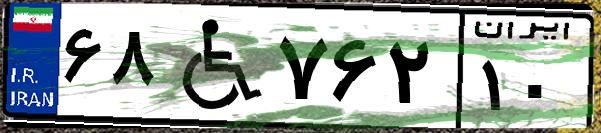0: (525, 38, 570, 115)
1: (475, 38, 525, 113)
2: (385, 28, 445, 110)
6: (330, 28, 385, 110), (57, 26, 110, 100)
7: (270, 28, 330, 110)
8: (110, 28, 158, 98)
ژ (معلولین و جانبازان): (158, 12, 270, 120)
